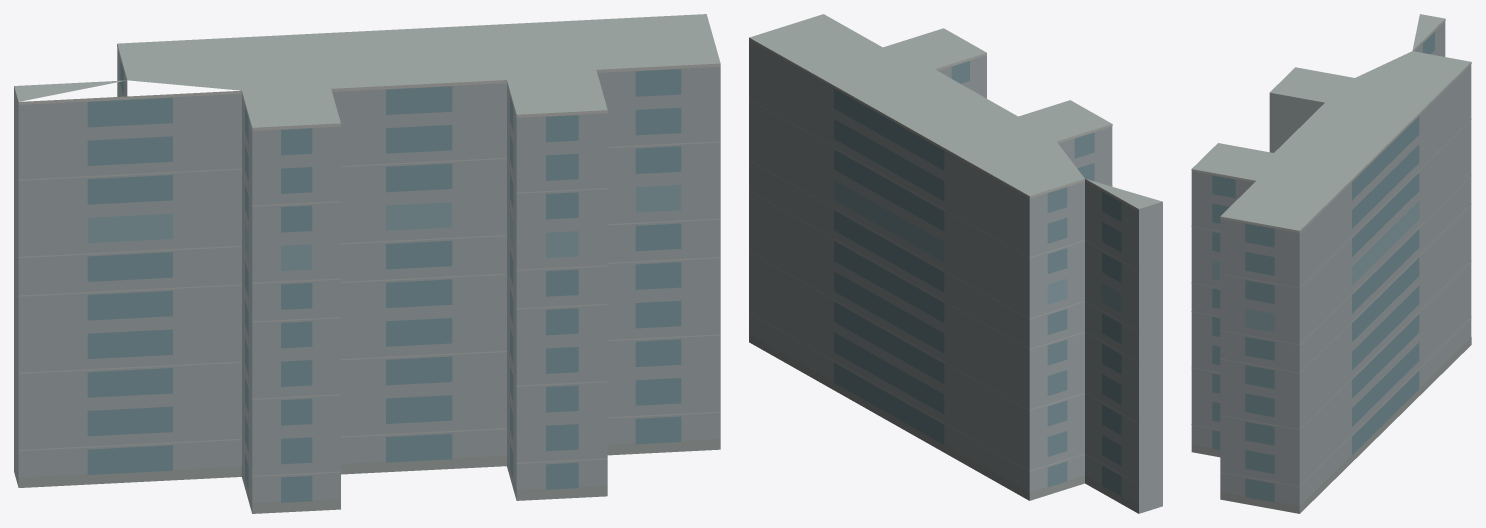
File: residential-c0bd47f0-f551-447f-a606-393f7d113ada.glb
The picture shows the model from 3 angles, left to right: view 1: azimuth 30°, elevation 25°; view 2: azimuth 150°, elevation 25°; view 3: azimuth 270°, elevation 25°; orthographic projection. The views are drawn at different scales.
Visible parts, largest first — view 1: residential-c0bd47f0-f551-447f-a606-393f7d113ada.tmp; view 2: residential-c0bd47f0-f551-447f-a606-393f7d113ada.tmp; view 3: residential-c0bd47f0-f551-447f-a606-393f7d113ada.tmp.
Boxes of the visible parts, left/top/right/bottom form: residential-c0bd47f0-f551-447f-a606-393f7d113ada.tmp: left=14, top=14, right=720, bottom=513; residential-c0bd47f0-f551-447f-a606-393f7d113ada.tmp: left=749, top=14, right=1162, bottom=513; residential-c0bd47f0-f551-447f-a606-393f7d113ada.tmp: left=1191, top=14, right=1471, bottom=513.
Size of the model in its own units: 50.12 by 30.5 by 27.35.
